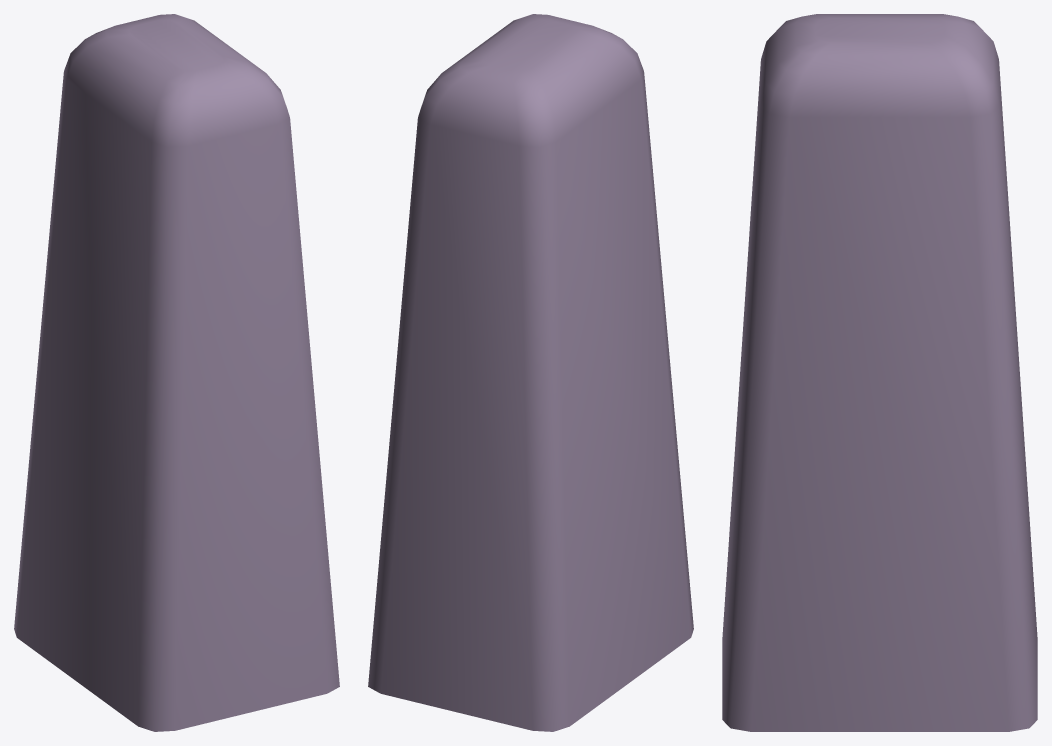
File: SM_Stone_Big2.fbx
The picture shows the model from 3 angles, left to right: view 1: azimuth 30°, elevation 25°; view 2: azimuth 150°, elevation 25°; view 3: azimuth 270°, elevation 25°; orthographic projection. The views are drawn at different scales.
Visible parts, largest first — view 1: SM_Stone_Big2; view 2: SM_Stone_Big2; view 3: SM_Stone_Big2.
Boxes of the visible parts, x1=… form: SM_Stone_Big2: x1=14, y1=14, x2=339, y2=731; SM_Stone_Big2: x1=368, y1=14, x2=693, y2=731; SM_Stone_Big2: x1=722, y1=14, x2=1037, y2=731.
Bounding box in the file's own units: 1.7 × 5 × 2.2.
